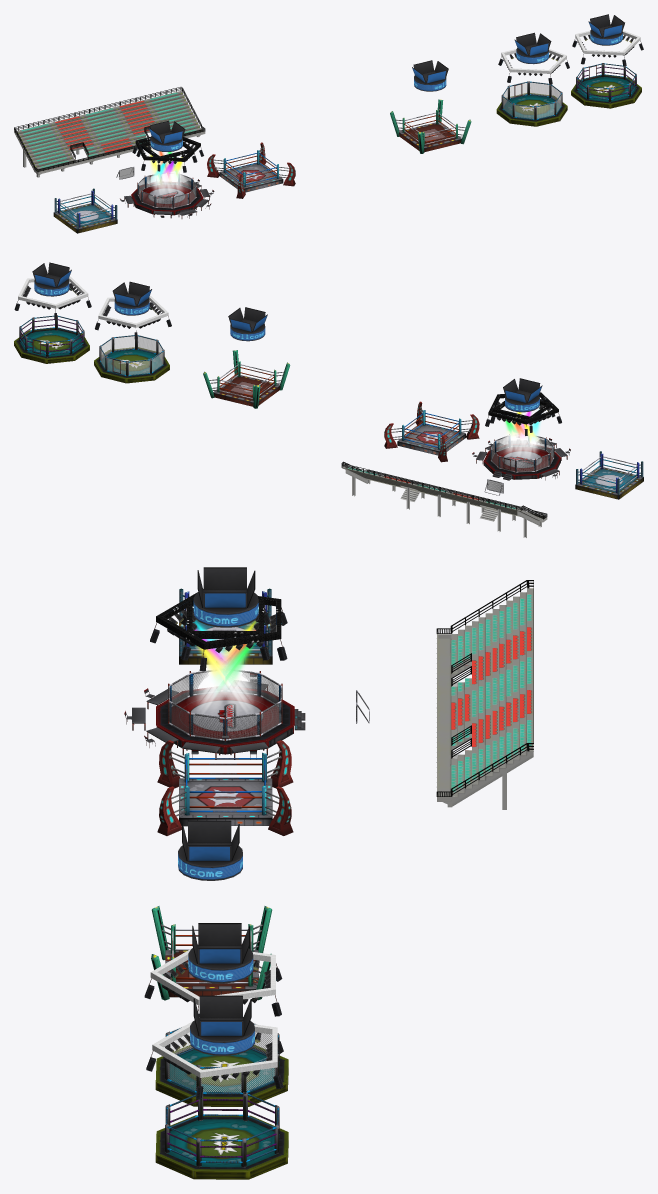
Rendered from street-arena.glb.
3 renders of one model, top to bottom at view 1: azimuth 30°, elevation 25°; view 2: azimuth 150°, elevation 25°; view 3: azimuth 270°, elevation 25°, orthographic. The views are drawn at different scales.
Visible parts, largest first — view 1: cartoon boxing arena_ stands, cartoon boxing arena 1, cartoon boxing arena 3, cartoon boxing arena 4, cartoon boxing arena 2, cartoon boxing arena 5, cartoon boxing arena 6, cartoon boxing arena_stands fence, cartoon boxing arena 2_fence, cartoon boxing arena 5_Led, cartoon boxing arena 3_Led, cartoon boxing arena 2_Led (+9 smaller); view 2: cartoon boxing arena 3, cartoon boxing arena 1, cartoon boxing arena_ stands, cartoon boxing arena 4, cartoon boxing arena 2, cartoon boxing arena 5, cartoon boxing arena 6, cartoon boxing arena 2_fence, cartoon boxing arena 3_Led, cartoon boxing arena 2_Led, cartoon boxing arena 5_Led, cartoon boxing arena 1_led (+9 smaller); view 3: cartoon boxing arena_ stands, cartoon boxing arena 3, cartoon boxing arena 1, cartoon boxing arena 4, cartoon boxing arena 2, cartoon boxing arena 1_led, cartoon boxing arena 3_Led, cartoon boxing arena 2_Led, cartoon boxing arena 5_Led, cartoon boxing arena 5, cartoon boxing arena 1_Fecen, cartoon boxing arena 3_light systems (+8 smaller).
Part boxes in pixels (x1,y1,x2,y2): cartoon boxing arena_ stands: [14, 91, 205, 177]; cartoon boxing arena 1: [124, 174, 210, 218]; cartoon boxing arena 3: [571, 63, 641, 108]; cartoon boxing arena 4: [207, 142, 295, 198]; cartoon boxing arena 2: [496, 81, 567, 126]; cartoon boxing arena 5: [390, 99, 471, 153]; cartoon boxing arena 6: [53, 188, 117, 233]; cartoon boxing arena_stands fence: [14, 87, 205, 172]; cartoon boxing arena 2_fence: [503, 81, 561, 118]; cartoon boxing arena 5_Led: [412, 60, 448, 91]; cartoon boxing arena 3_Led: [588, 14, 624, 45]; cartoon boxing arena 2_Led: [514, 32, 551, 64]; cartoon boxing arena 3: [14, 315, 89, 363]; cartoon boxing arena 1: [476, 434, 567, 480]; cartoon boxing arena_ stands: [342, 466, 547, 537]; cartoon boxing arena 4: [384, 401, 479, 462]; cartoon boxing arena 2: [94, 334, 169, 383]; cartoon boxing arena 5: [203, 350, 290, 408]; cartoon boxing arena 6: [575, 451, 643, 499]; cartoon boxing arena 2_fence: [100, 335, 163, 375]; cartoon boxing arena 3_Led: [32, 262, 71, 296]; cartoon boxing arena 2_Led: [112, 281, 151, 315]; cartoon boxing arena 5_Led: [228, 307, 267, 341]; cartoon boxing arena 1_led: [503, 378, 542, 412]; cartoon boxing arena_ stands: [437, 588, 533, 809]; cartoon boxing arena 3: [155, 1092, 288, 1179]; cartoon boxing arena 1: [146, 670, 294, 759]; cartoon boxing arena 4: [157, 740, 293, 835]; cartoon boxing arena 2: [155, 1024, 288, 1106]; cartoon boxing arena 1_led: [193, 567, 258, 627]; cartoon boxing arena 3_Led: [190, 995, 254, 1055]; cartoon boxing arena 2_Led: [188, 923, 253, 983]; cartoon boxing arena 5_Led: [178, 820, 242, 880]; cartoon boxing arena 5: [151, 906, 272, 1000]; cartoon boxing arena 1_Fecen: [169, 672, 281, 739]; cartoon boxing arena 3_light systems: [146, 1020, 283, 1099].
Bounding box in the file's own units: 44.78 × 5.75 × 13.89.
Materials: 16 (16 with a texture image).
